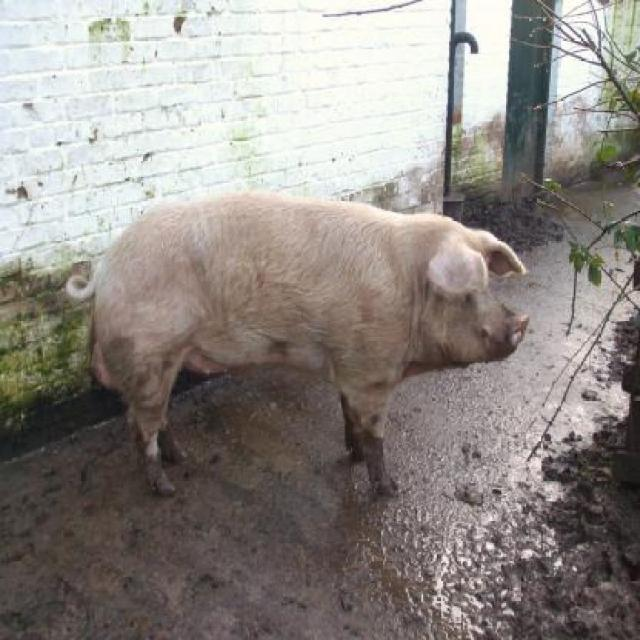pig: (68, 189, 530, 500)
